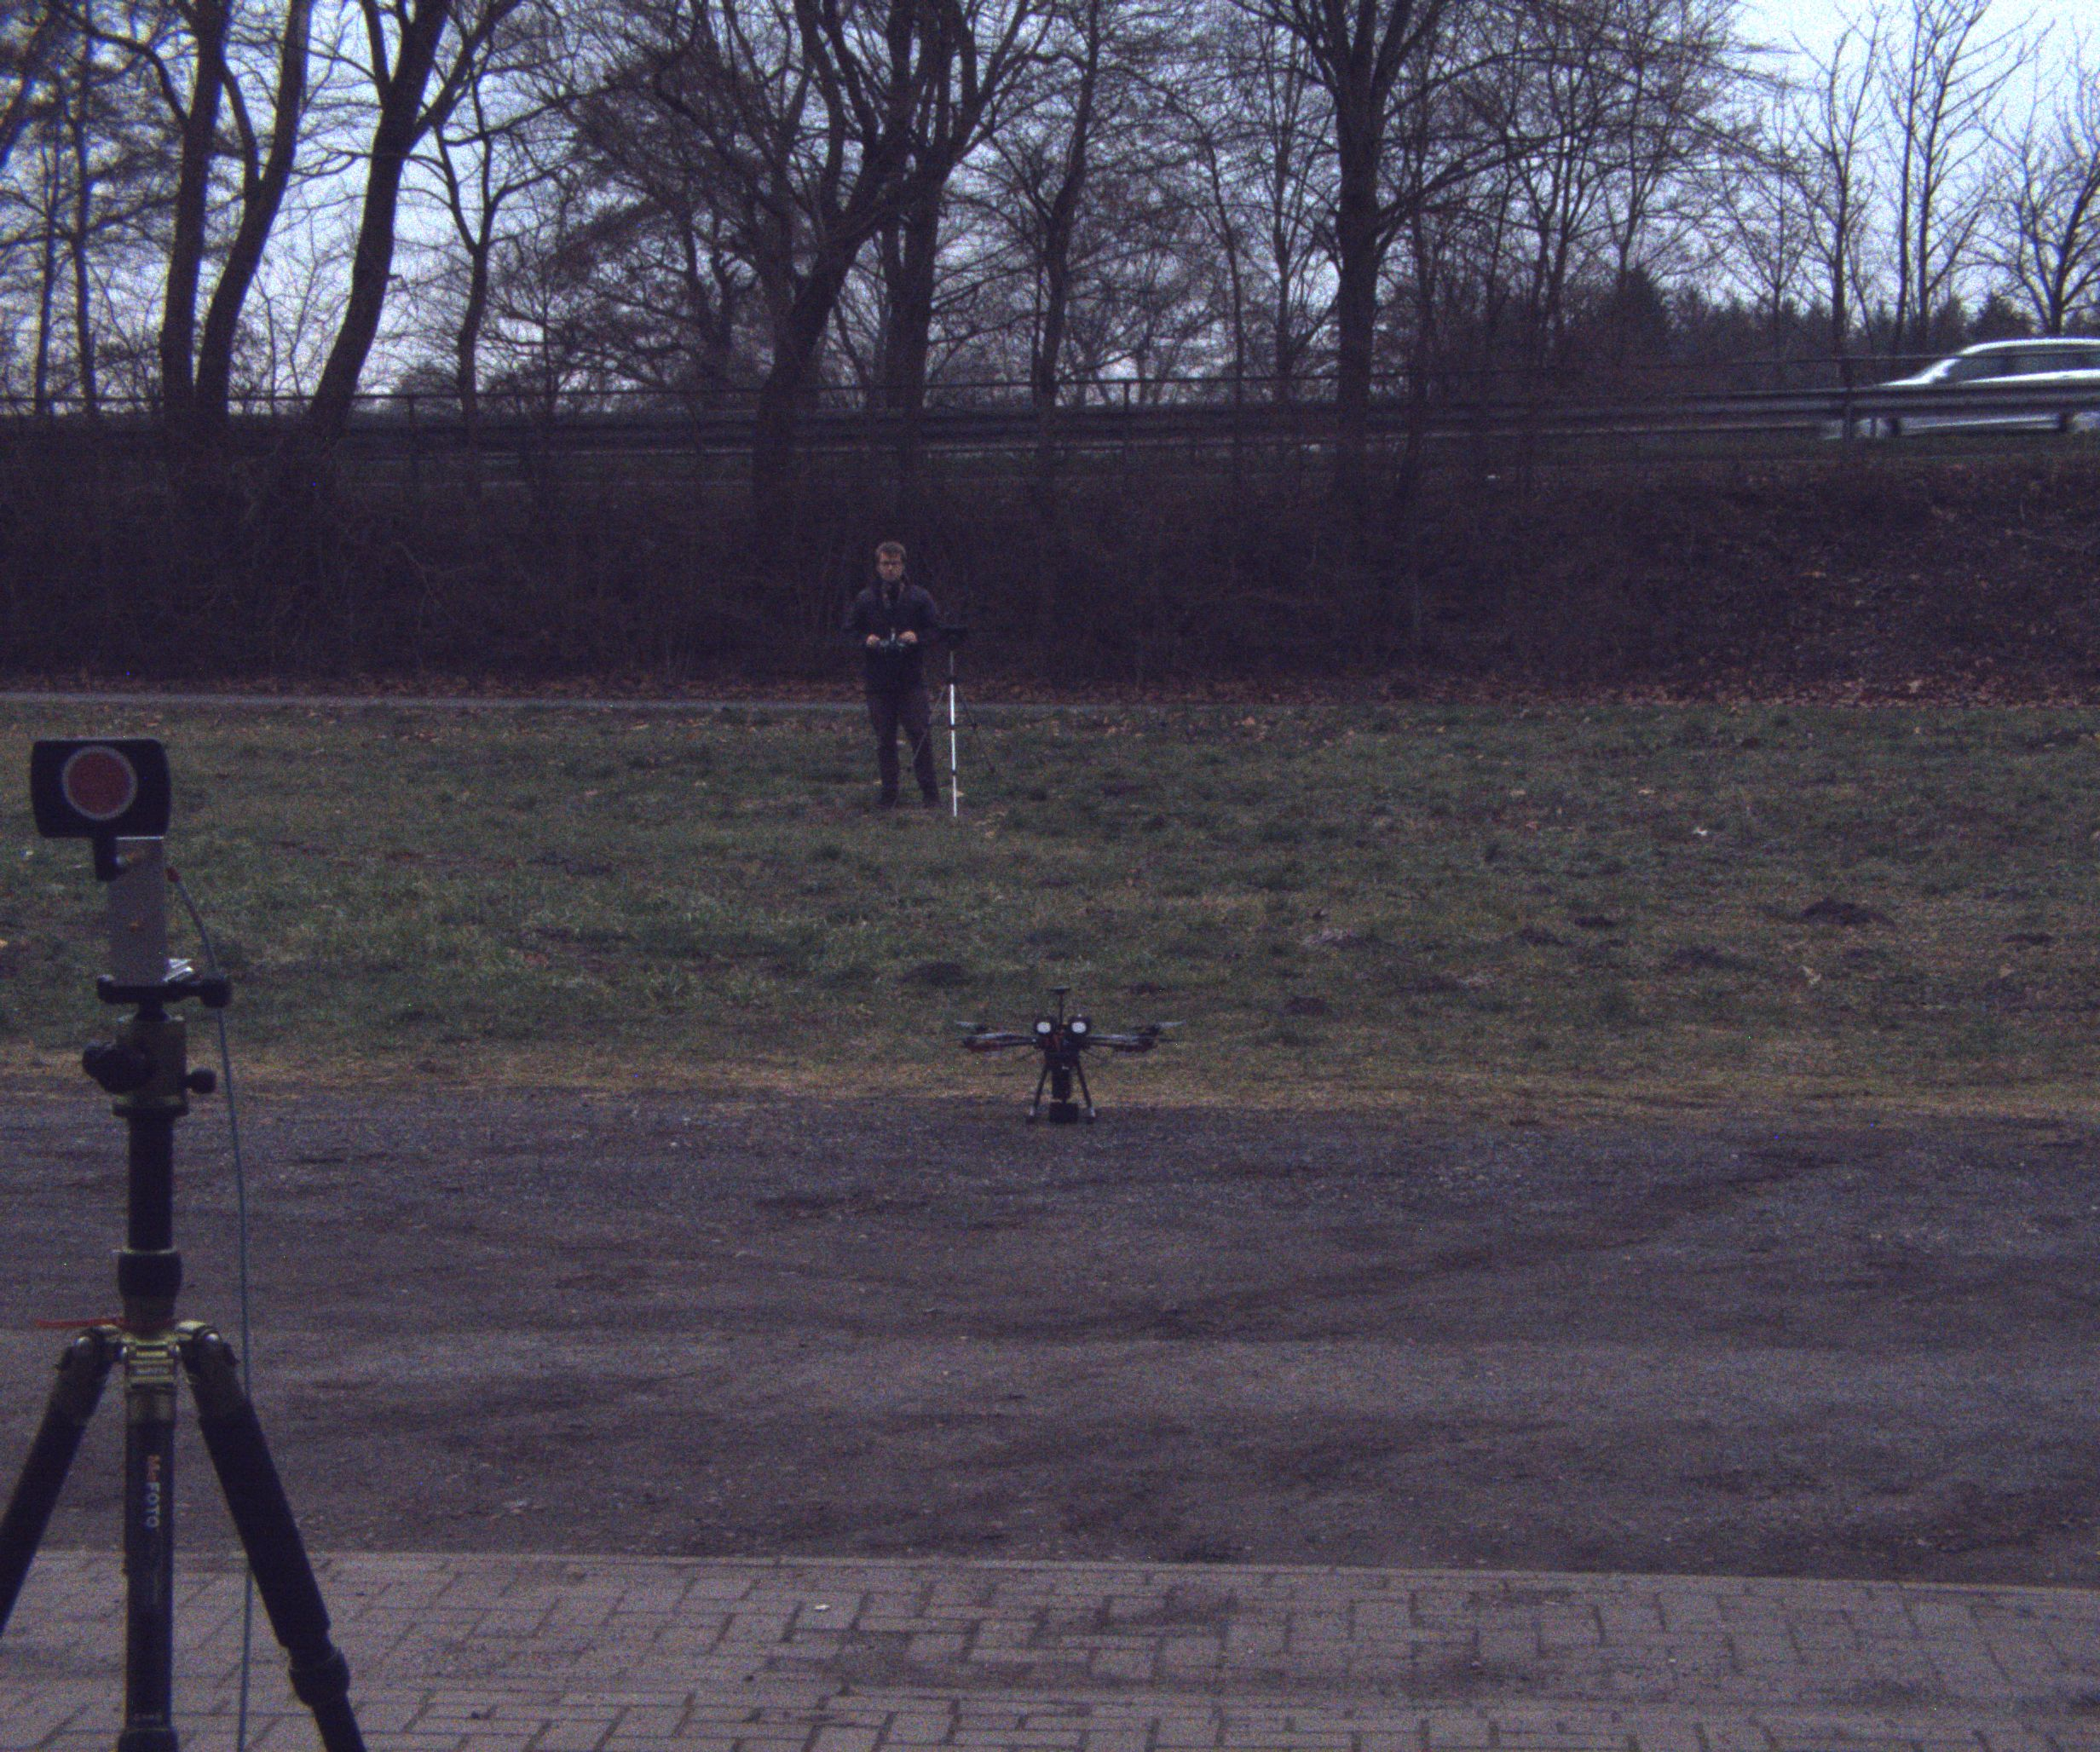Drohne: (937, 964, 1242, 1163)
